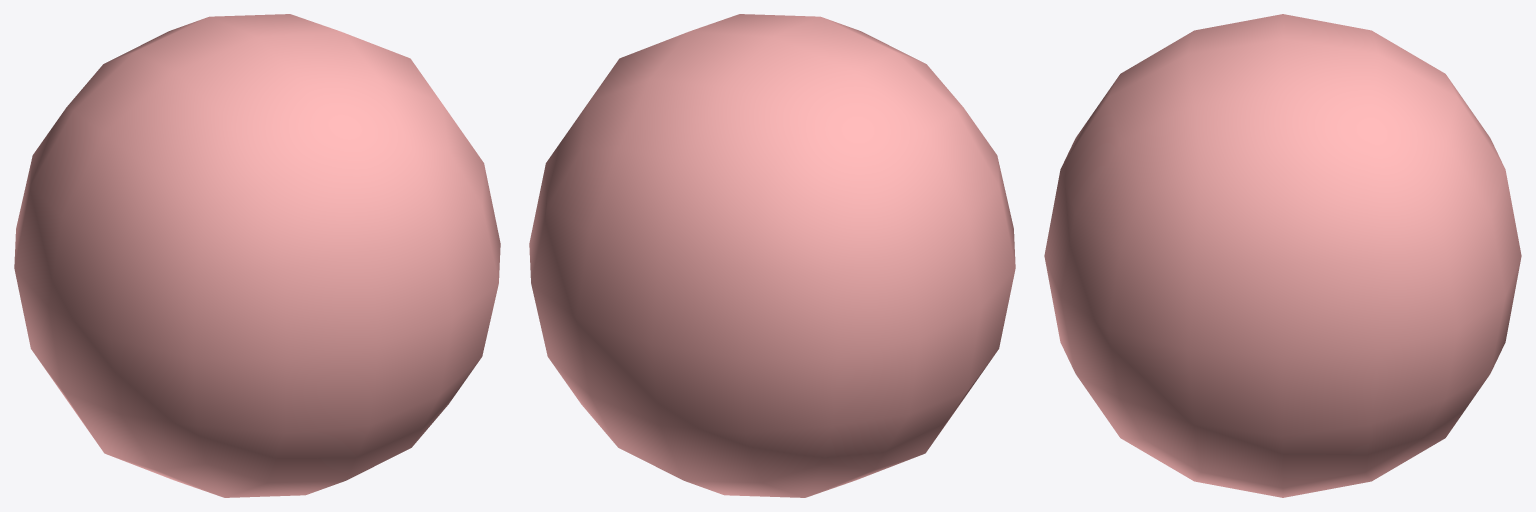
File: golfball_mesh.glb
3 renders of one model, left to right at view 1: azimuth 30°, elevation 25°; view 2: azimuth 150°, elevation 25°; view 3: azimuth 270°, elevation 25°, orthographic.
Parts seen in each view (by area): view 1: golfball_mesh; view 2: golfball_mesh; view 3: golfball_mesh.
Part boxes in pixels (x1,y1,x2,y2): golfball_mesh: (14,14,500,497); golfball_mesh: (529,14,1015,497); golfball_mesh: (1044,14,1521,497).
Size of the model in its own units: 0.2052 by 0.2052 by 0.2052.
